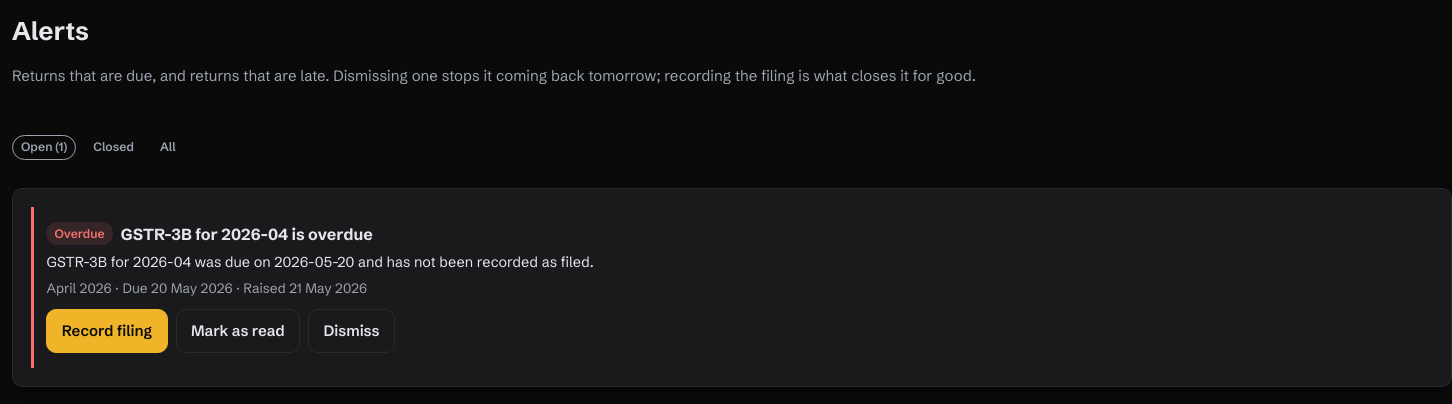
Scenario: AlertsPage › keeps a read alert on the open list
Click the button "Mark as read" at (238, 331), box [176,309,300,353]
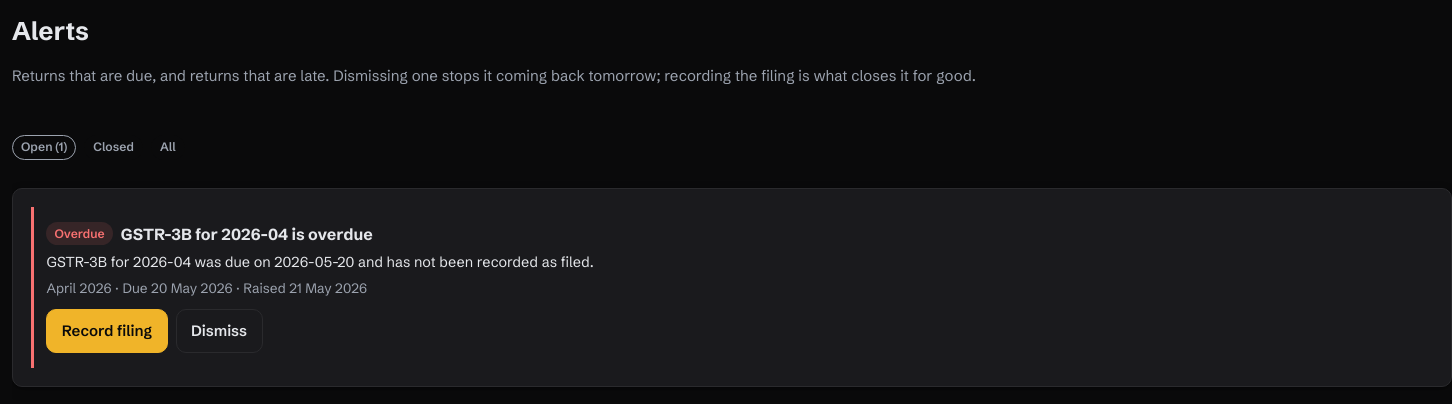
Expected: the heading "GSTR-3B for 2026-04 is overdue" is shown, [121,222,373,246]
Result: the button "Mark as read" is gone
